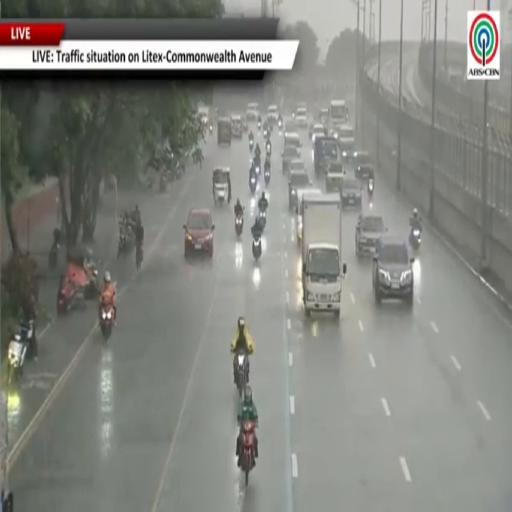car: (373, 235, 414, 306), (184, 208, 214, 258), (296, 187, 321, 244), (355, 214, 386, 257), (313, 136, 340, 175), (289, 167, 311, 210), (340, 176, 362, 209), (352, 151, 374, 180), (336, 125, 354, 156), (325, 166, 345, 193), (282, 146, 300, 173), (310, 123, 327, 142), (285, 132, 301, 150), (295, 107, 308, 129), (231, 115, 243, 138), (246, 103, 259, 122), (198, 106, 209, 125), (267, 105, 278, 123), (319, 108, 329, 124)
motorcycle: (8, 319, 36, 386), (7, 334, 28, 386), (57, 280, 85, 315), (240, 422, 255, 486), (99, 304, 114, 341), (236, 352, 248, 397), (118, 224, 134, 257), (49, 229, 61, 269), (409, 226, 421, 250), (49, 243, 59, 269), (252, 234, 261, 261), (136, 244, 143, 271), (235, 216, 243, 236), (249, 174, 257, 194), (259, 210, 266, 230), (159, 175, 166, 193), (368, 179, 374, 198), (264, 168, 270, 185), (266, 142, 271, 157), (255, 164, 260, 177), (249, 139, 253, 152), (278, 120, 282, 131), (209, 124, 213, 134), (264, 130, 268, 138), (258, 121, 261, 130)
truck: (302, 194, 346, 316)
